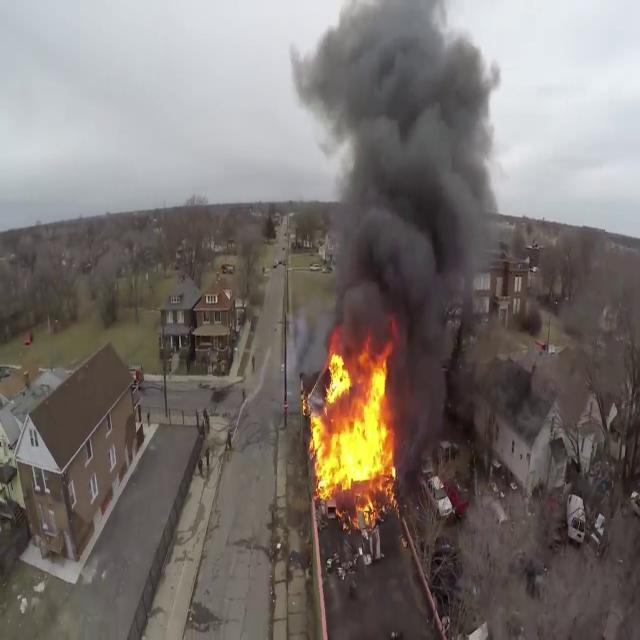Fire: (303, 338, 400, 510)
Smoke: (293, 0, 508, 357)
